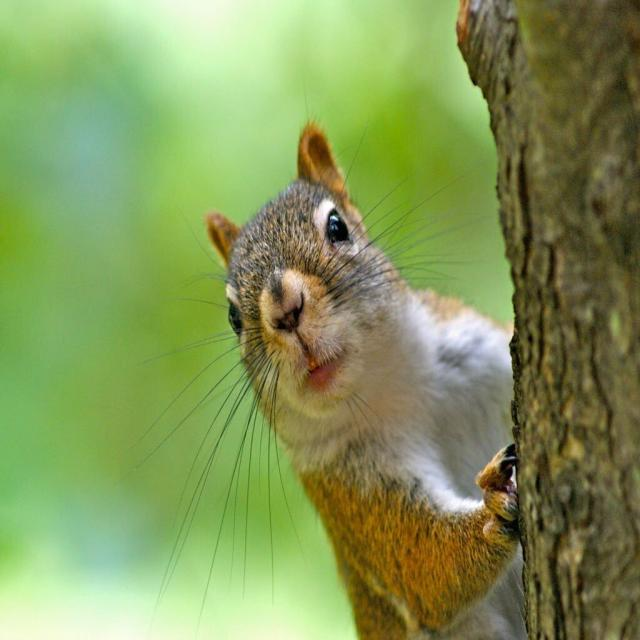Squirrel: (208, 114, 515, 640)
